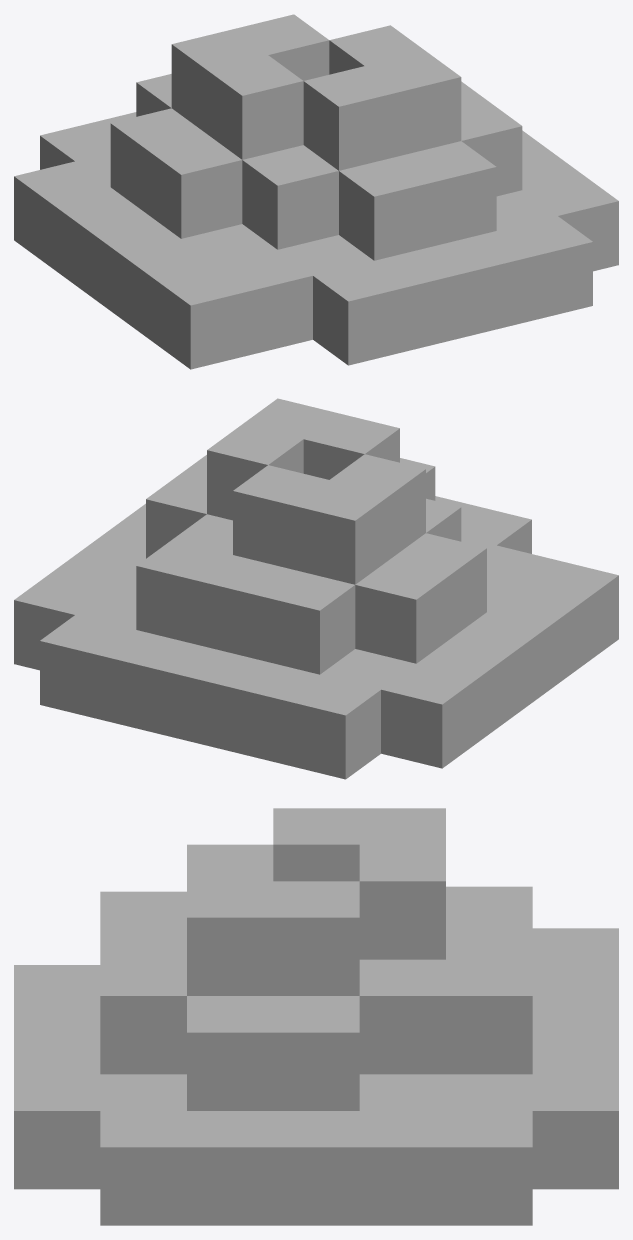
Rendered from Flag.fbx.
The picture shows the model from 3 angles, top to bottom: view 1: azimuth 30°, elevation 25°; view 2: azimuth 150°, elevation 25°; view 3: azimuth 270°, elevation 25°; orthographic projection. The views are drawn at different scales.
Parts seen in each view (by area): view 1: obj1; view 2: obj1; view 3: obj1.
Boxes of the visible parts, bbox=[...] form: obj1: bbox=[14, 14, 618, 369]; obj1: bbox=[14, 398, 618, 779]; obj1: bbox=[14, 808, 618, 1225].
Bounding box in the file's own units: 70 × 30 × 70.
Materials: 1 (1 with a texture image).
